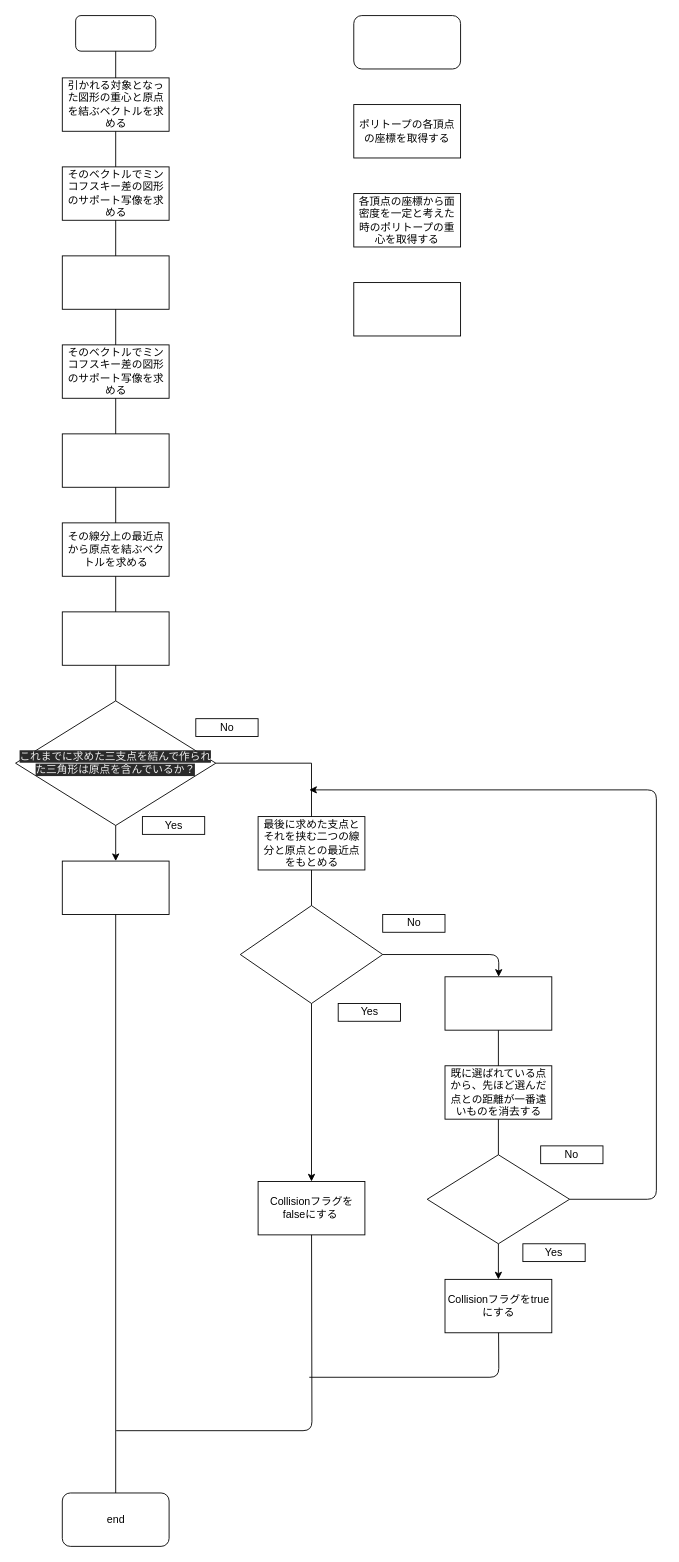
Some shapes in this 679 by 1562 pixel diagram are drawn without their labels. The centre of each missing label's shape, as x and y in pixels:
"AABBを利用したバウンディングスフィアを使ったサポート写像を求める方法start" belongs at (407,42).
"Colisionフラグをtrueにする" belongs at (115,887).
"Start" belongs at (115,33).
"そのベクトルでミンコフスキー差を求めた図形のサポート写像を求める" belongs at (115,638).
"その最近点から原点を結んだベクトルのサポート写像を求める" belongs at (498,1003).
"今現在存在している三支点を繋いだ三角形内に原点が含まれているか？" belongs at (498,1199).
"最近点が三角形の頂点に重なっている？" belongs at (311,954).
"求めた二つの支点を結び、その線分上の原点との最近点を求める" belongs at (115,460).
"求めた支点から原点を結ぶベクトルを求める" belongs at (115,282).
